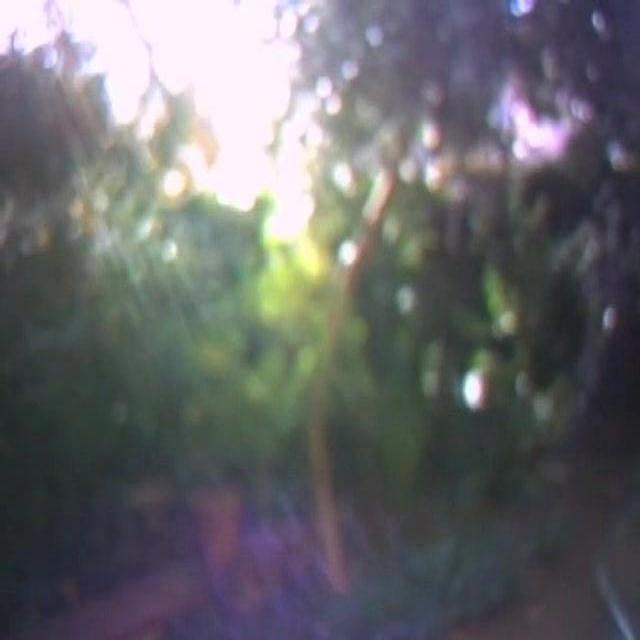other: (67, 4, 348, 300)
